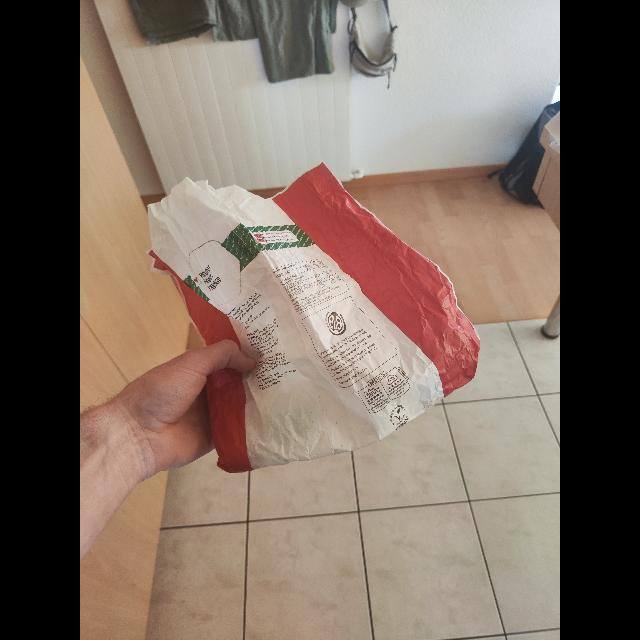Paper: (148, 158, 482, 474)
